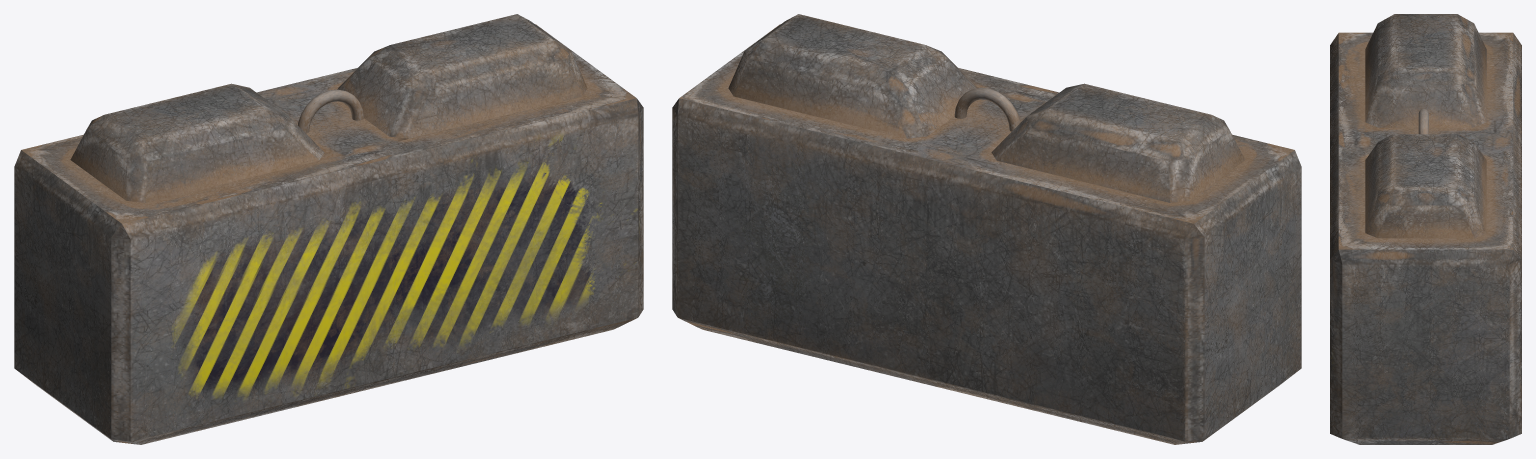
The model's file is Barrier_Block_2.FBX.
3 views of the same model, side by side, from view 1: azimuth 30°, elevation 25°; view 2: azimuth 150°, elevation 25°; view 3: azimuth 270°, elevation 25° (orthographic). The views are drawn at different scales.
Parts seen in each view (by area): view 1: Box004; view 2: Box004; view 3: Box004.
Boxes of the visible parts, <box> form: Box004: <box>14,14,643,444</box>; Box004: <box>672,14,1301,444</box>; Box004: <box>1330,14,1521,444</box>.
Size of the model in its own units: 60 by 29.54 by 21.69.
Materials: 1 (1 with a texture image).
